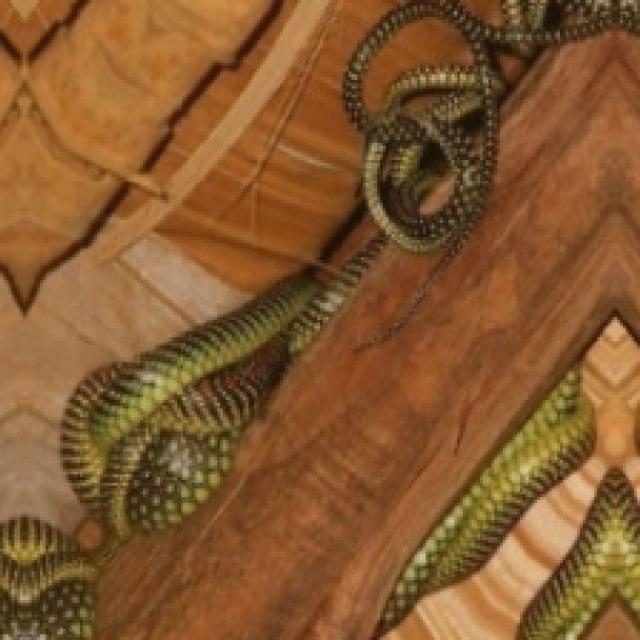paradise tree snake: (97, 31, 637, 637), (0, 0, 397, 529)
